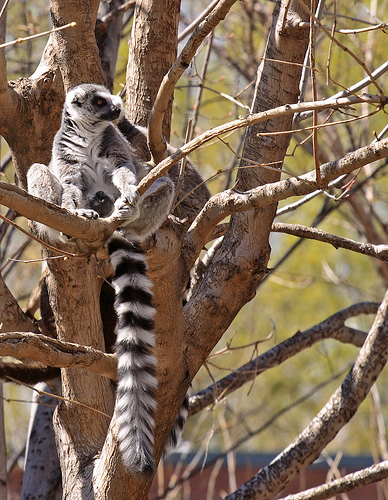cat: (25, 82, 176, 478)
